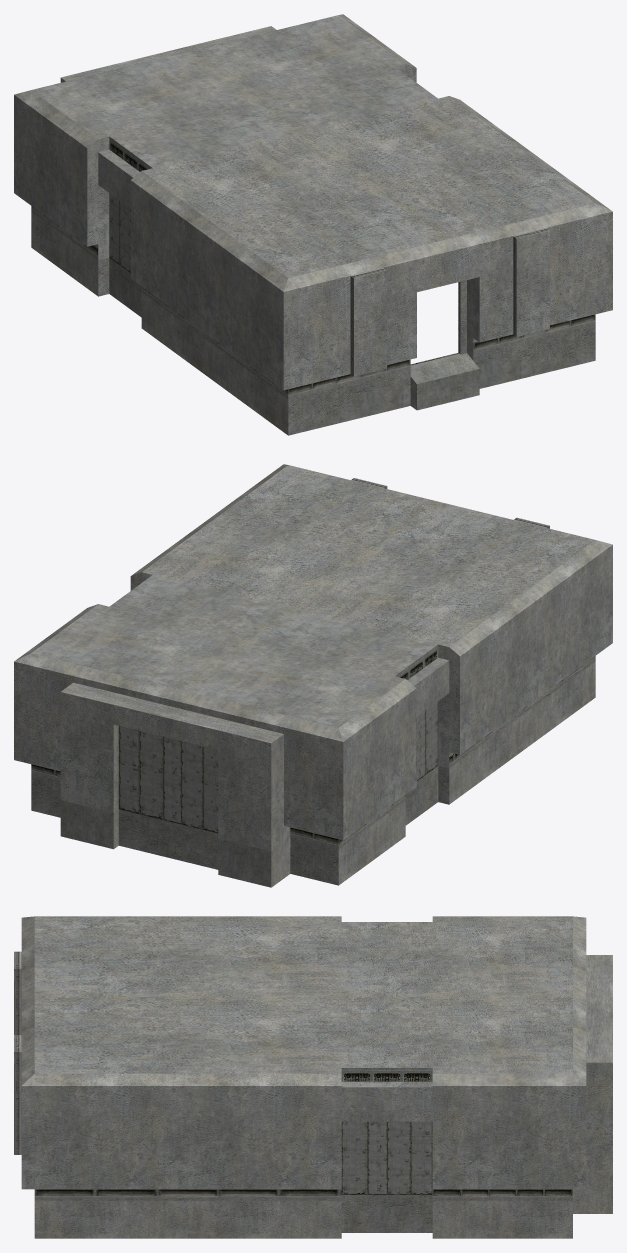
The model's file is poi_all_impl_bunker_abandoned_s01_r0_exterior_mesh_r0_l0.fbx.
3 views of the same model, one above another, from view 1: azimuth 30°, elevation 25°; view 2: azimuth 150°, elevation 25°; view 3: azimuth 270°, elevation 25° (orthographic). The views are drawn at different scales.
Parts seen in each view (by area): view 1: mesh_node; view 2: mesh_node; view 3: mesh_node.
Part boxes in pixels (x1,y1,x2,y2): mesh_node: (14, 14, 612, 435); mesh_node: (14, 464, 612, 887); mesh_node: (14, 916, 612, 1238).
Bounding box in the file's own units: 13.12 × 6 × 19.74.
